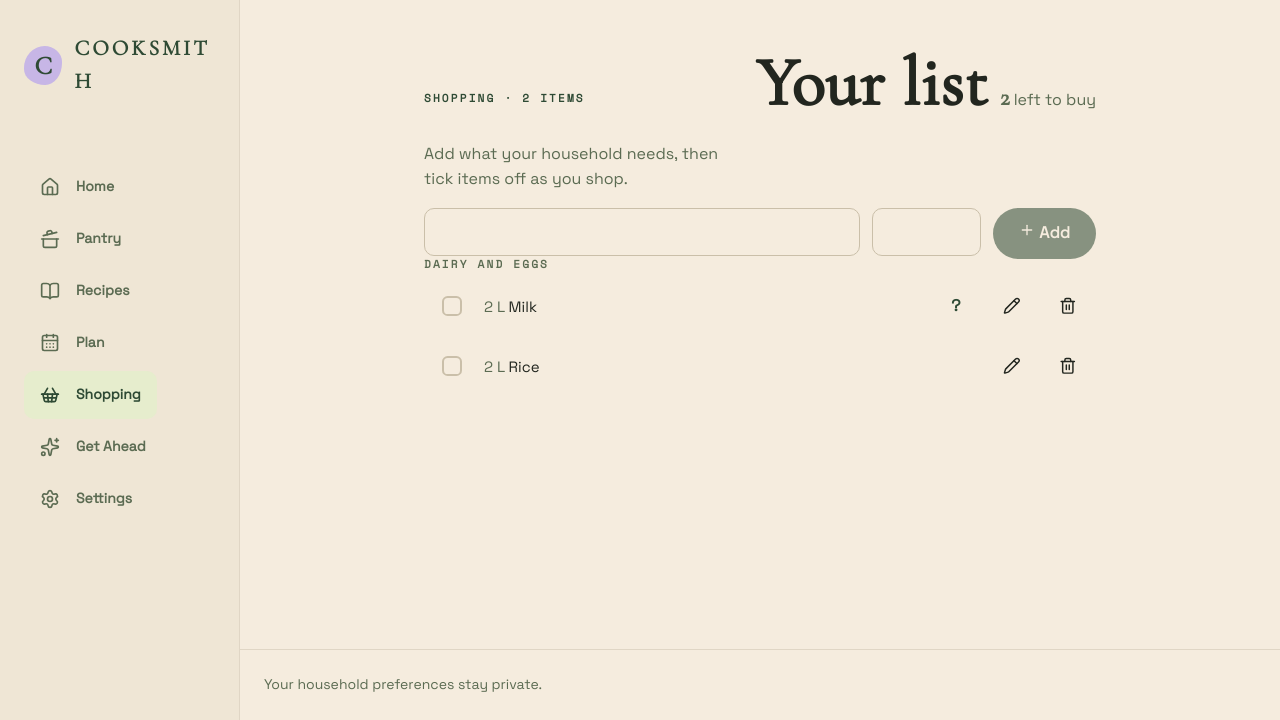
Test: shopping list foundation › shows accessible pantry guidance only for a strong same-household match
The image size is (1280, 720).
Expected: the heading "Dairy and eggs" is shown, top-left (424, 256), bottom-right (549, 272)
Expected: the button named "Edit Milk" is shown, top-left (988, 282), bottom-right (1036, 330)
Click the button named "Why should I check my pantry for Milk?". click: (956,306)
box: top-left (932, 282), bottom-right (980, 330)
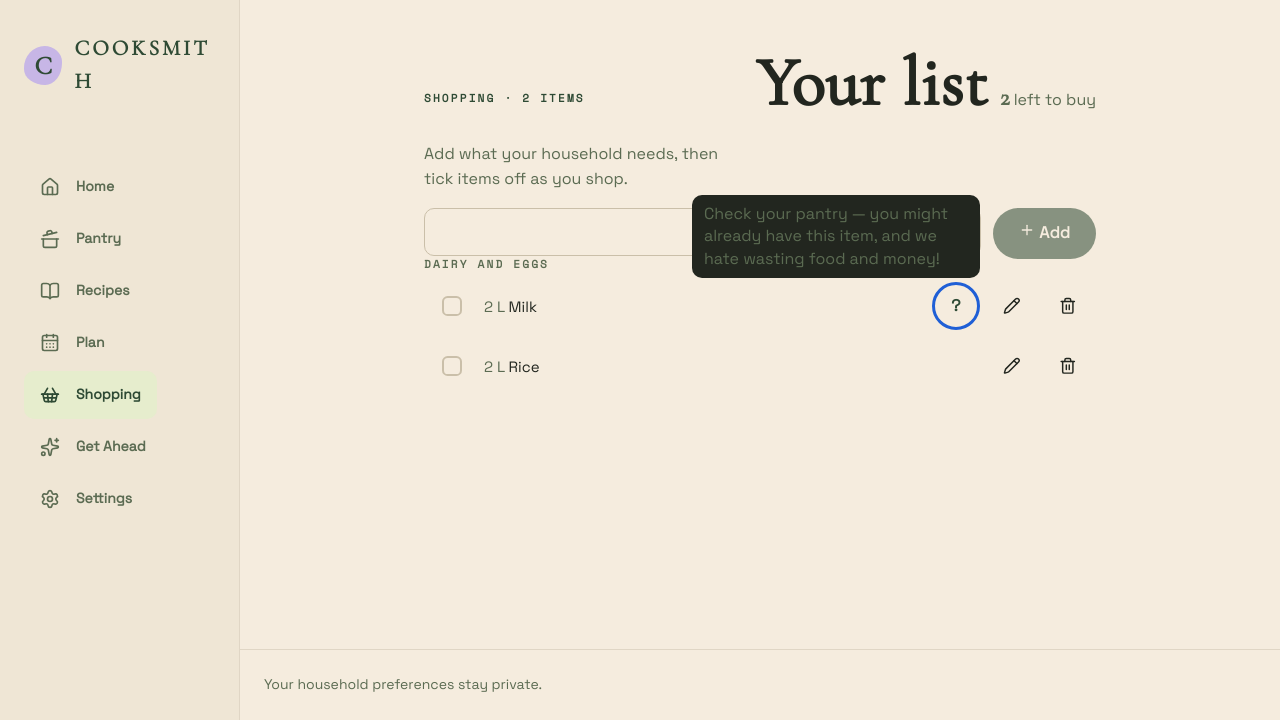
Expected: the tooltip shows "Check your pantry — you might already have this item, and we hate wasting food and money!", top-left (704, 203), bottom-right (948, 269)
Press Escape
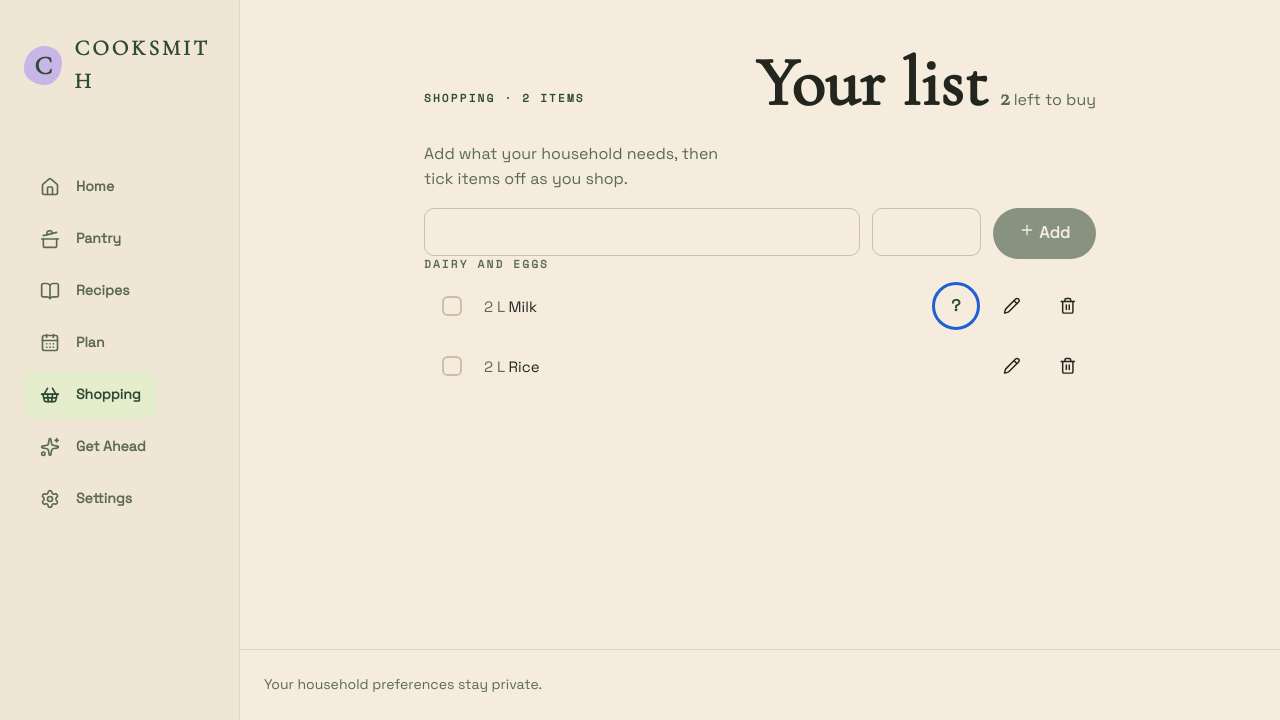
Expected: the tooltip is gone
